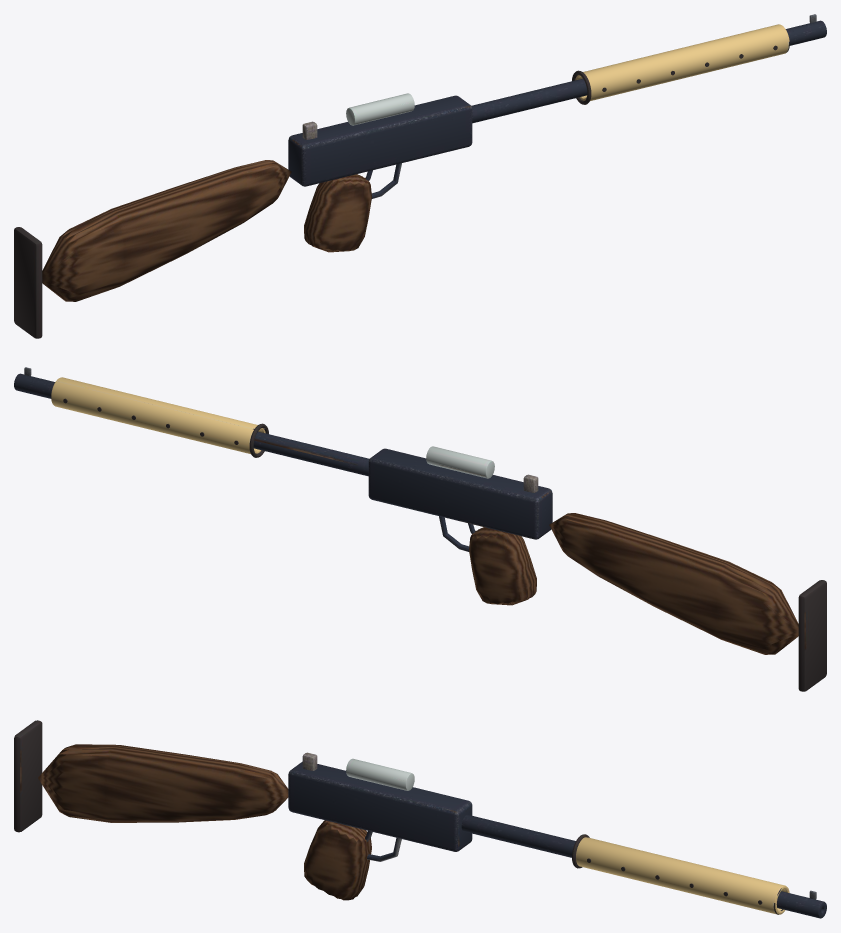
The model's file is reefrattler.glb.
The picture shows the model from 3 angles, top to bottom: view 1: azimuth 30°, elevation 25°; view 2: azimuth 150°, elevation 25°; view 3: azimuth 330°, elevation 25°; orthographic projection.
Visible parts, largest first — view 1: stock, receiver, shroud, grip, butt_plate, barrel, chamber0; view 2: stock, receiver, shroud, grip, butt_plate, barrel, chamber0; view 3: stock, receiver, shroud, grip, barrel, butt_plate, chamber0.
Boxes of the visible parts, bbox=[...] form: stock: bbox=[42, 160, 291, 301]; receiver: bbox=[288, 95, 472, 186]; shroud: bbox=[575, 24, 789, 100]; grip: bbox=[304, 174, 371, 252]; butt_plate: bbox=[14, 227, 42, 338]; barrel: bbox=[471, 20, 826, 123]; chamber0: bbox=[346, 93, 414, 125]; stock: bbox=[549, 513, 798, 654]; receiver: bbox=[368, 448, 552, 539]; shroud: bbox=[51, 377, 265, 453]; grip: bbox=[469, 527, 536, 605]; butt_plate: bbox=[798, 580, 826, 691]; barrel: bbox=[14, 373, 369, 476]; chamber0: bbox=[426, 446, 494, 478]; stock: bbox=[38, 744, 288, 822]; receiver: bbox=[288, 761, 472, 851]; shroud: bbox=[576, 837, 789, 914]; grip: bbox=[304, 820, 371, 900]; barrel: bbox=[461, 814, 826, 918]; butt_plate: bbox=[14, 720, 42, 832]; chamber0: bbox=[346, 758, 414, 790].
Size of the model in its own units: 0.794 by 0.137 by 0.04.
Materials: 1 (1 with a texture image).
